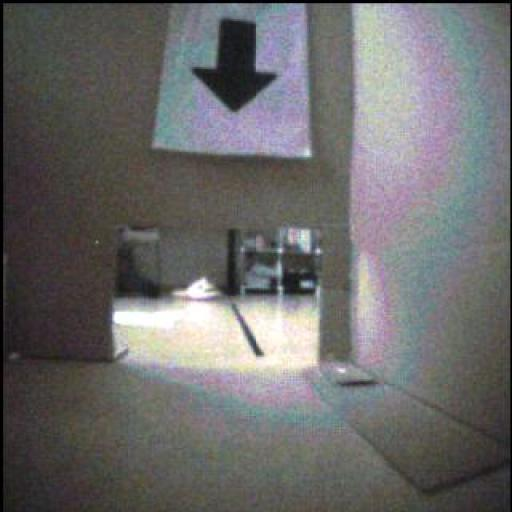arrow: (193, 20, 278, 113)
